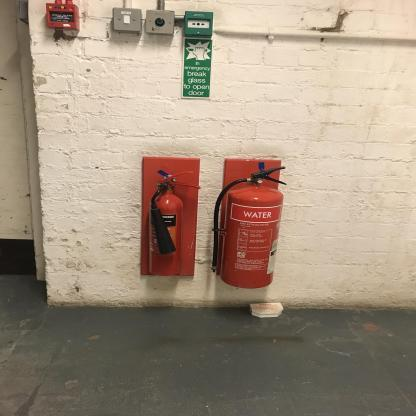Fire Extinguisher: (209, 148, 294, 297), (141, 149, 196, 284)
